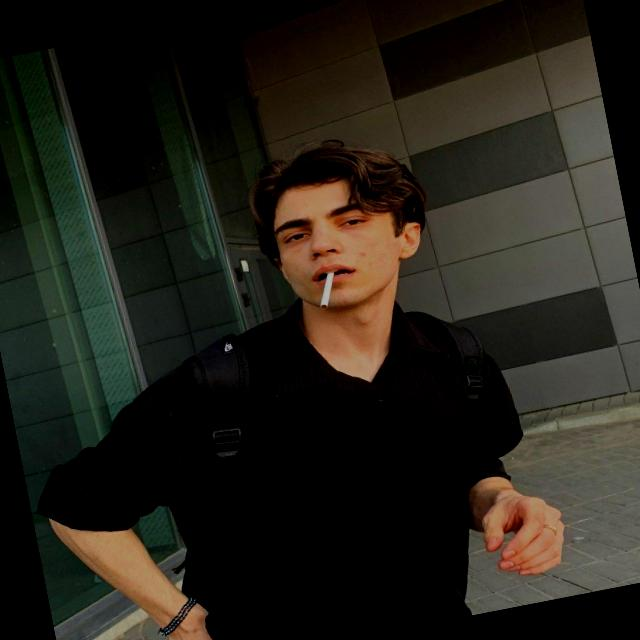smoke: (306, 262, 352, 334)
